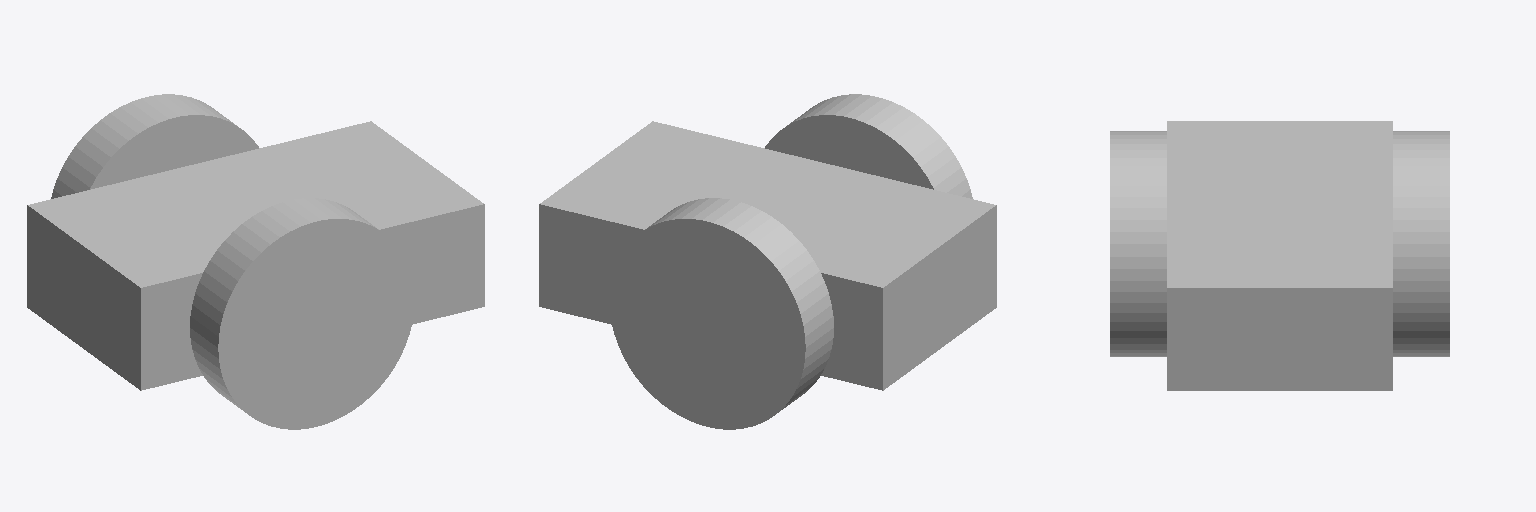
File: robot-old.obj
The picture shows the model from 3 angles: view 1: azimuth 30°, elevation 25°; view 2: azimuth 150°, elevation 25°; view 3: azimuth 270°, elevation 25°; orthographic projection.
Visible parts, largest first — view 1: Box.001_Box.003, Cylinder001.001_Cylinder001.003, Cylinder.001_Cylinder.003; view 2: Box.001_Box.003, Cylinder.001_Cylinder.003, Cylinder001.001_Cylinder001.003; view 3: Box.001_Box.003, Cylinder.001_Cylinder.003, Cylinder001.001_Cylinder001.003.
Boxes of the visible parts, box(x1,y1,x2,y2) form: Box.001_Box.003: box(27, 121, 484, 390); Cylinder001.001_Cylinder001.003: box(190, 198, 414, 429); Cylinder.001_Cylinder.003: box(51, 94, 258, 198); Box.001_Box.003: box(539, 121, 996, 390); Cylinder.001_Cylinder.003: box(609, 198, 833, 429); Cylinder001.001_Cylinder001.003: box(765, 94, 972, 198); Box.001_Box.003: box(1167, 121, 1392, 390); Cylinder.001_Cylinder.003: box(1393, 131, 1449, 356); Cylinder001.001_Cylinder001.003: box(1110, 131, 1166, 356).
Bounding box in the file's own units: 70 × 39.94 × 60.